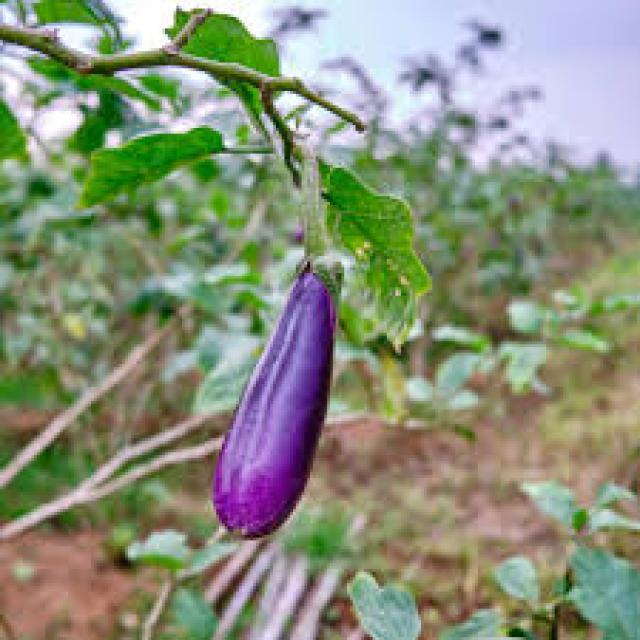Eggplant: (215, 181, 346, 545)
